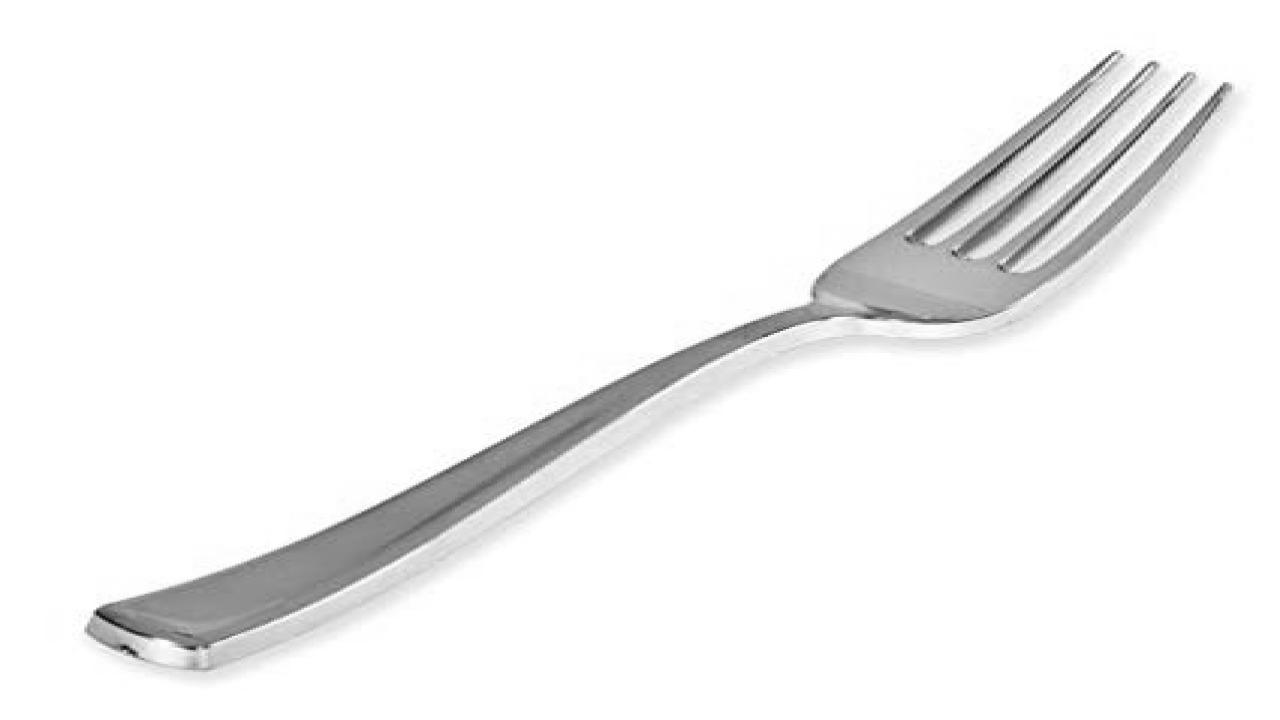fork: (81, 48, 1232, 670)
